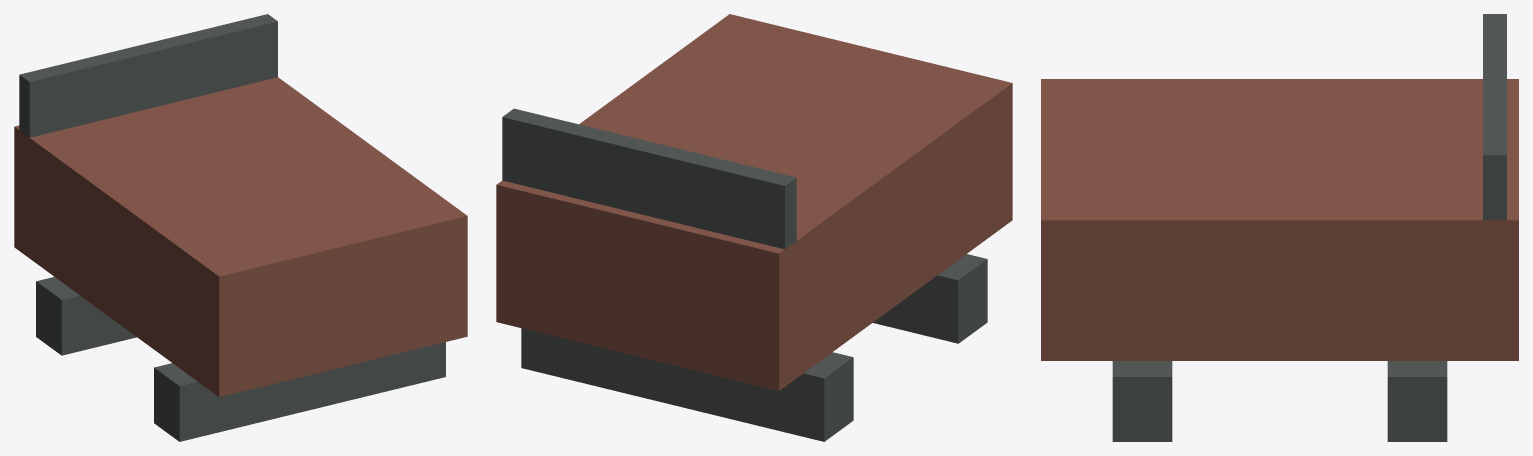
Rendered from ENV_F_MaintenanceCart.fbx.
The picture shows the model from 3 angles, left to right: view 1: azimuth 30°, elevation 25°; view 2: azimuth 150°, elevation 25°; view 3: azimuth 270°, elevation 25°; orthographic projection. The views are drawn at different scales.
Visible parts, largest first — view 1: PH03_ENV_F_MaintenanceCart; view 2: PH03_ENV_F_MaintenanceCart; view 3: PH03_ENV_F_MaintenanceCart.
Boxes of the visible parts, x1,y1,x2,y2 form: PH03_ENV_F_MaintenanceCart: (14, 14, 467, 441); PH03_ENV_F_MaintenanceCart: (496, 14, 1012, 441); PH03_ENV_F_MaintenanceCart: (1041, 14, 1518, 441).
Size of the model in its own units: 150 by 130 by 200.
